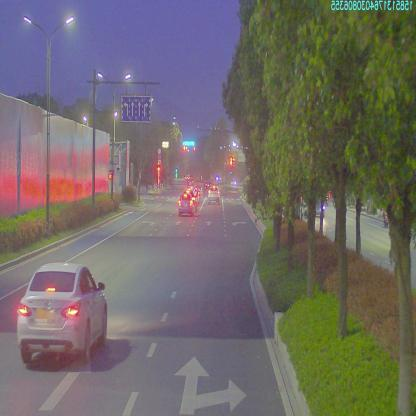traffic-light: (183, 140, 195, 146), (192, 144, 196, 152), (185, 144, 188, 150)
